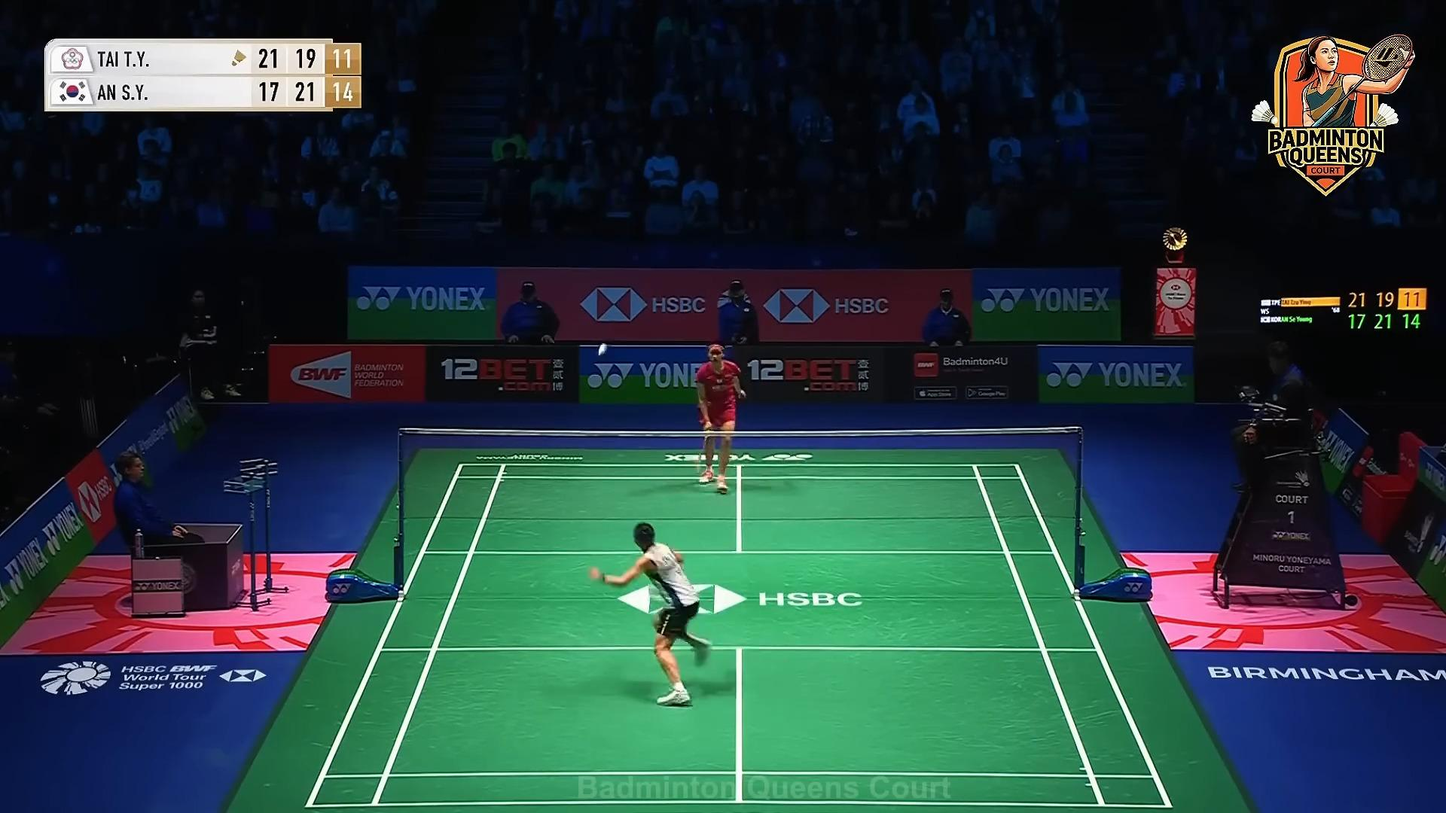shuttlecock: (598, 343, 607, 355)
